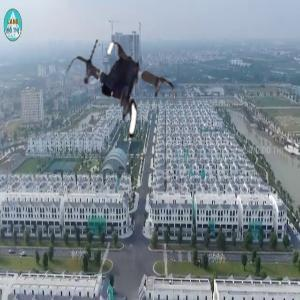drone: (59, 33, 180, 154)
